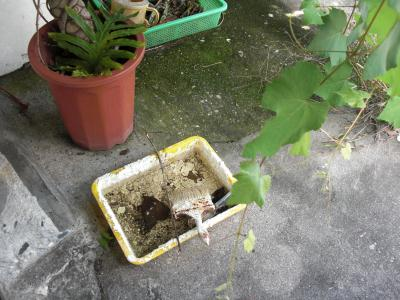plate: (86, 134, 249, 269)
